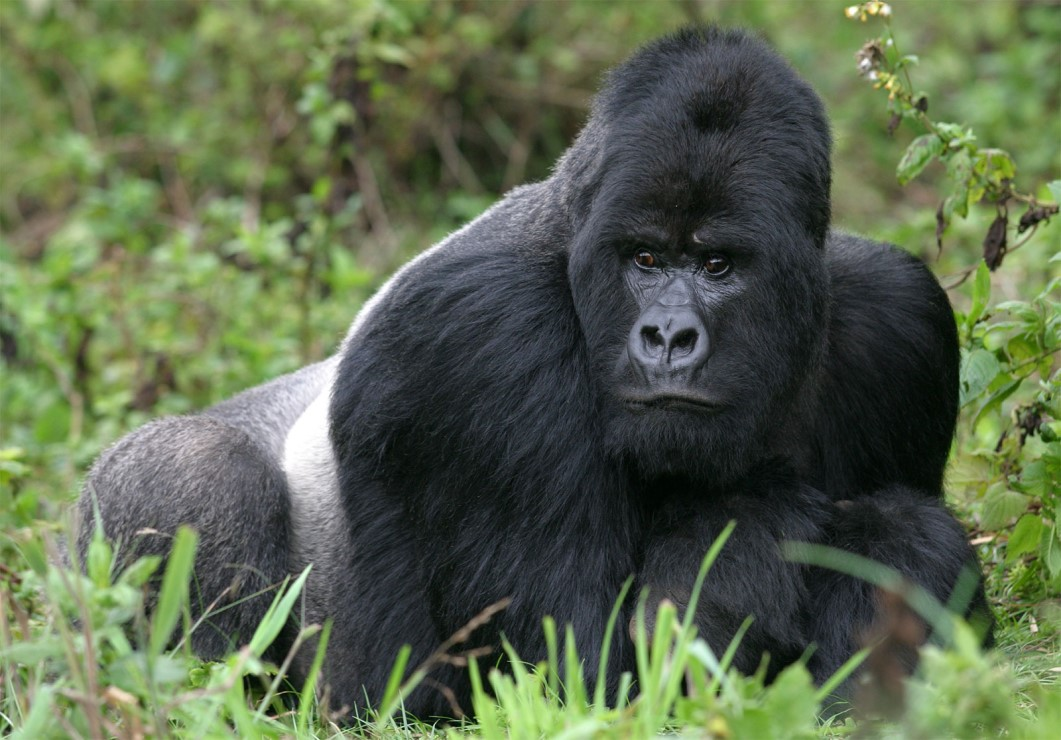Gorilla: (106, 78, 981, 698)
